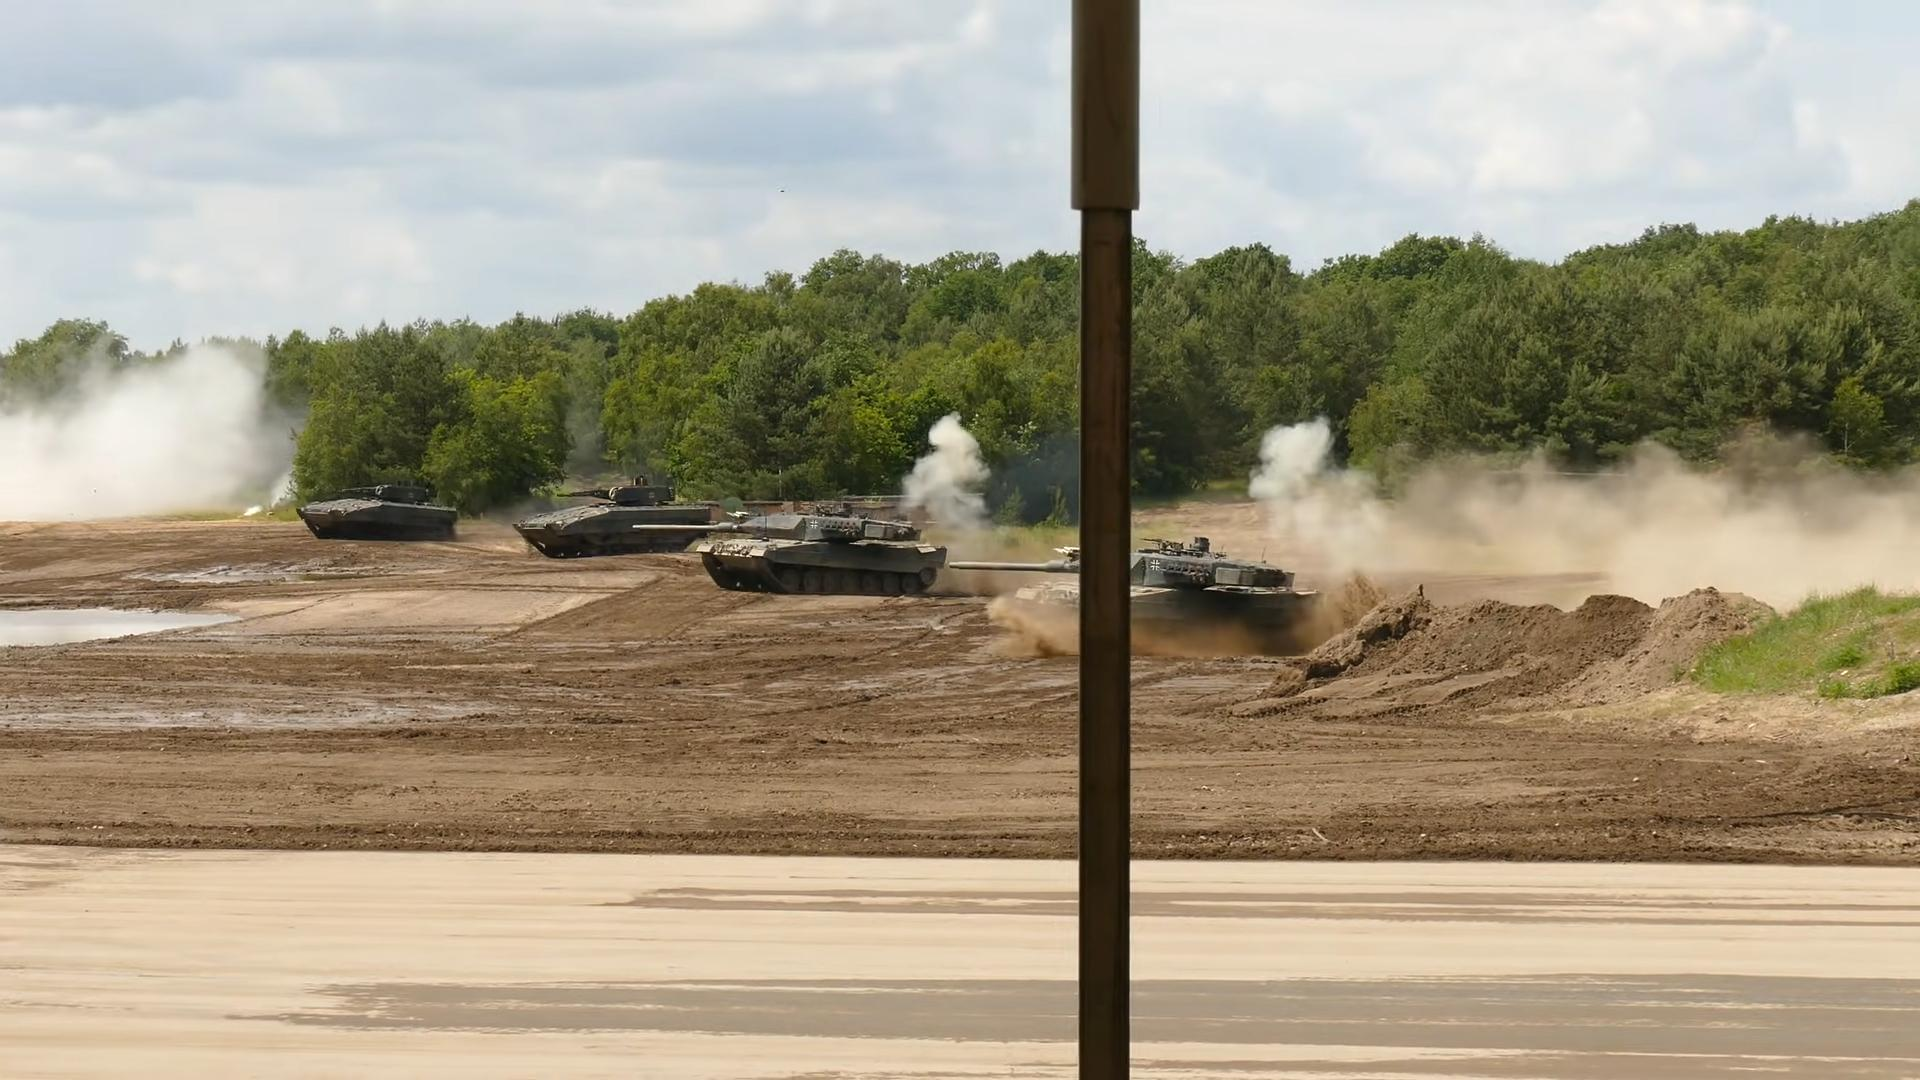tank: (951, 535, 1328, 655), (632, 500, 948, 595), (510, 473, 712, 558), (295, 479, 458, 539)
